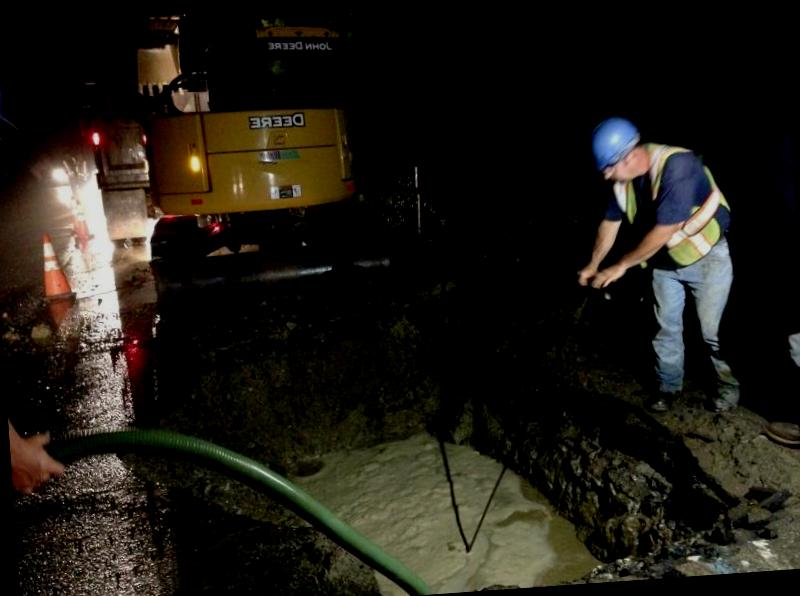helmet: (593, 117, 660, 190)
person: (561, 104, 757, 426)
